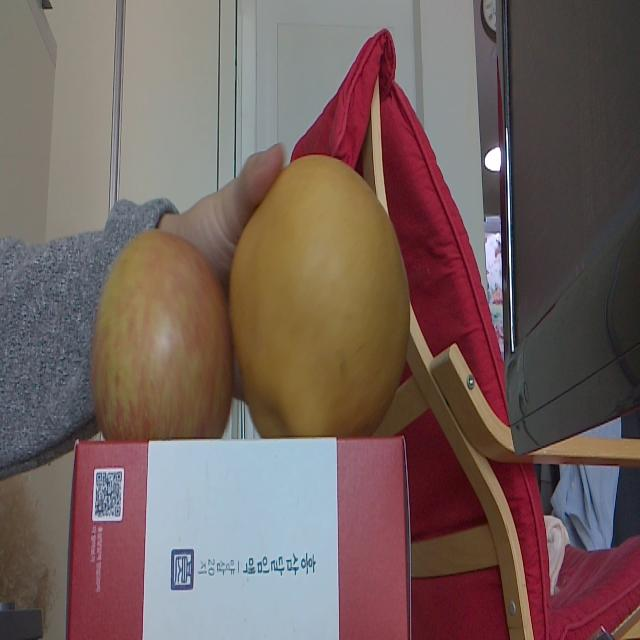apple: (90, 227, 234, 440)
pear: (237, 150, 411, 432)
